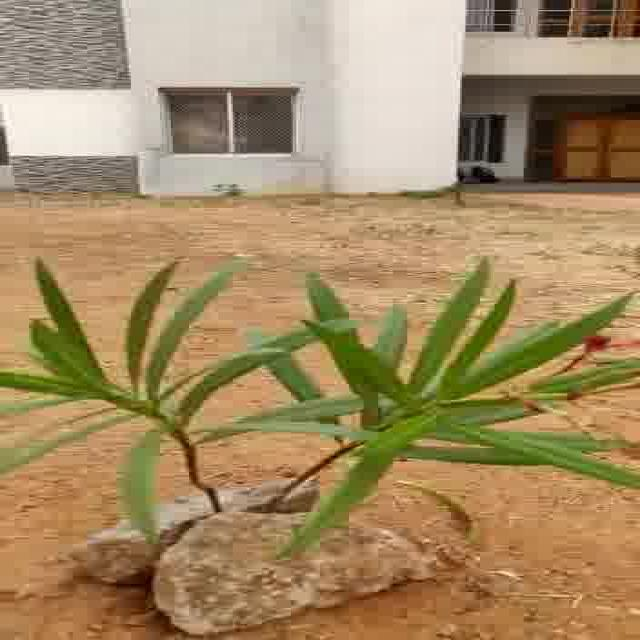Oleander: (0, 272, 640, 524)
